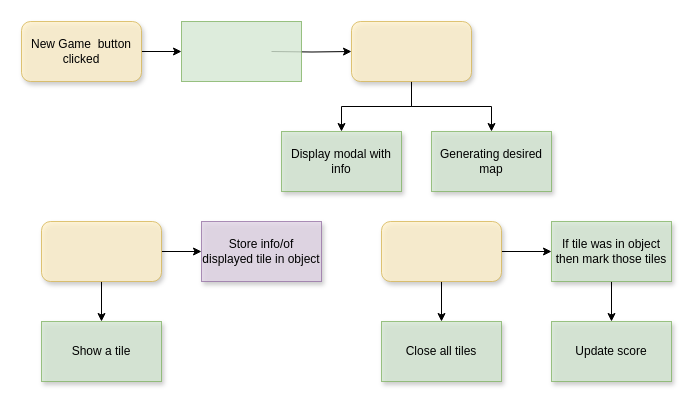
Image size: 695x406. Some labels were removed from this diagram. Here are the shapes that lost their labels. From the top down, the centre of each, then its label:
(241,51): Displaying a options
(412,52): User click a desired difficulty lv
(102,252): User clicked first tile
(442,252): User clicked second tile
